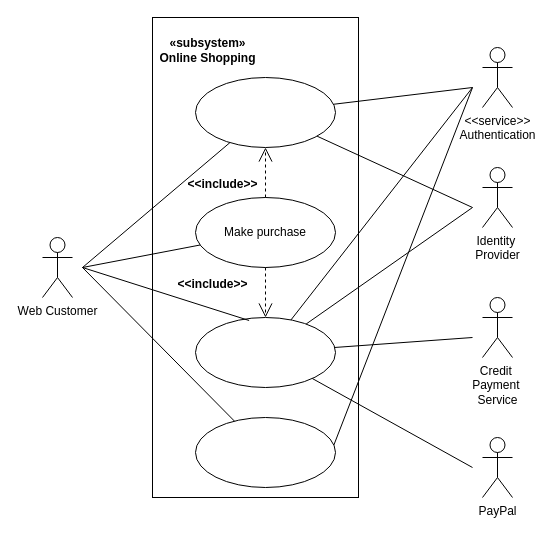
This 552x536 diagram has some shape labels left out. Each missing label, with the box of its shape:
Checkout: (194, 316, 336, 388)
Client Register: (194, 416, 336, 488)
View Items: (194, 76, 336, 148)
